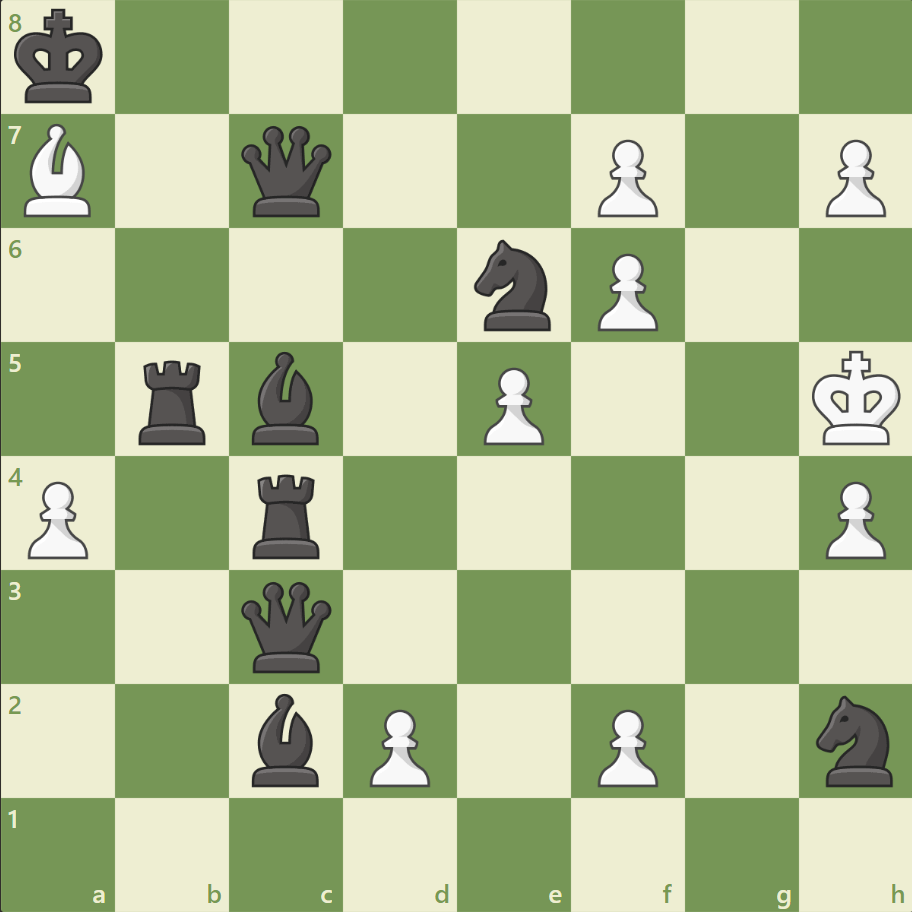B: (17, 120, 101, 222)
K: (806, 344, 906, 452)
P: (474, 359, 549, 450), (20, 473, 95, 564), (588, 132, 662, 223), (815, 132, 889, 223), (588, 246, 662, 337), (815, 473, 889, 564), (361, 700, 435, 791), (588, 700, 662, 791)
b: (244, 687, 328, 790), (244, 347, 328, 449)
k: (11, 4, 111, 112)
n: (465, 234, 562, 337), (806, 688, 903, 791)
q: (237, 122, 336, 222), (237, 576, 336, 676)
r: (246, 466, 329, 563), (133, 352, 215, 449)
